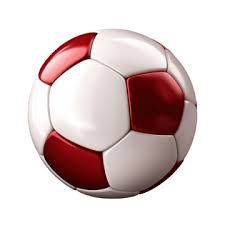football ball: (29, 27, 200, 199)
